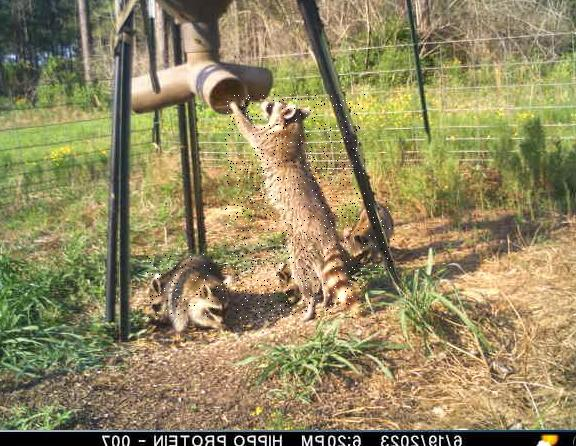Raccoon: (224, 94, 364, 318), (146, 254, 227, 319), (171, 266, 233, 339), (344, 202, 394, 271), (274, 259, 307, 311)
